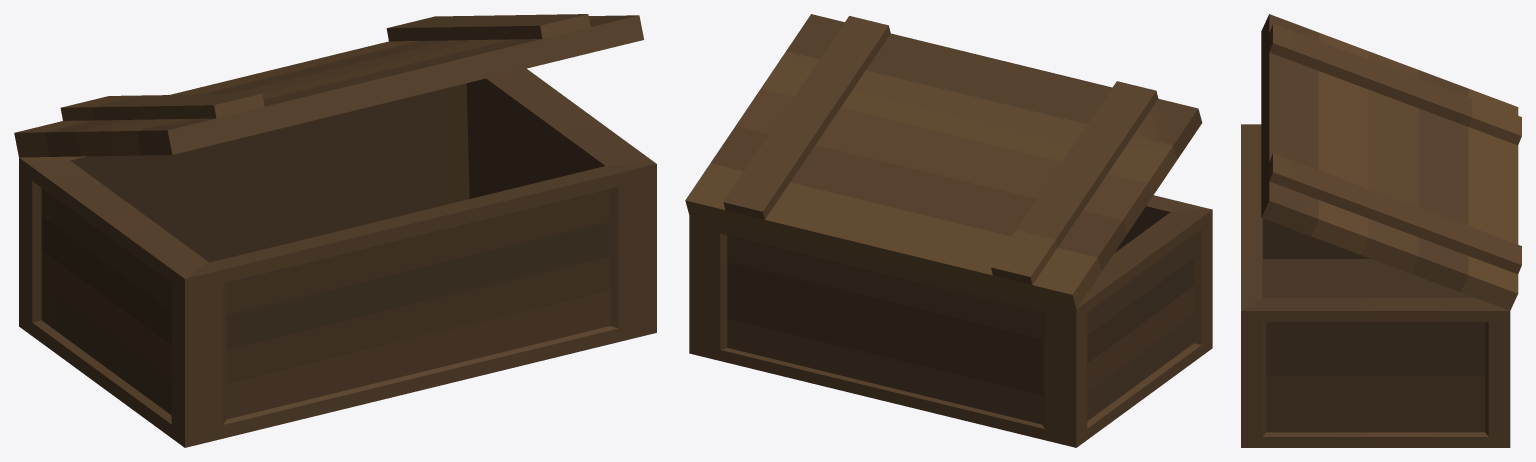
3 views of the same model, side by side, from view 1: azimuth 30°, elevation 25°; view 2: azimuth 150°, elevation 25°; view 3: azimuth 270°, elevation 25° (orthographic). The views are drawn at different scales.
Parts seen in each view (by area): view 1: box1, cap2; view 2: cap2, box1; view 3: cap2, box1.
Part boxes in pixels (x1,y1,x2,y2): box1: (19,68,656,447); cap2: (14,14,643,157); cap2: (685,14,1202,309); box1: (689,195,1212,447); cap2: (1261,14,1521,310); box1: (1241,124,1510,447).
Size of the model in its own units: 3.38 by 2.17 by 2.15.
Materials: 1 (1 with a texture image).
